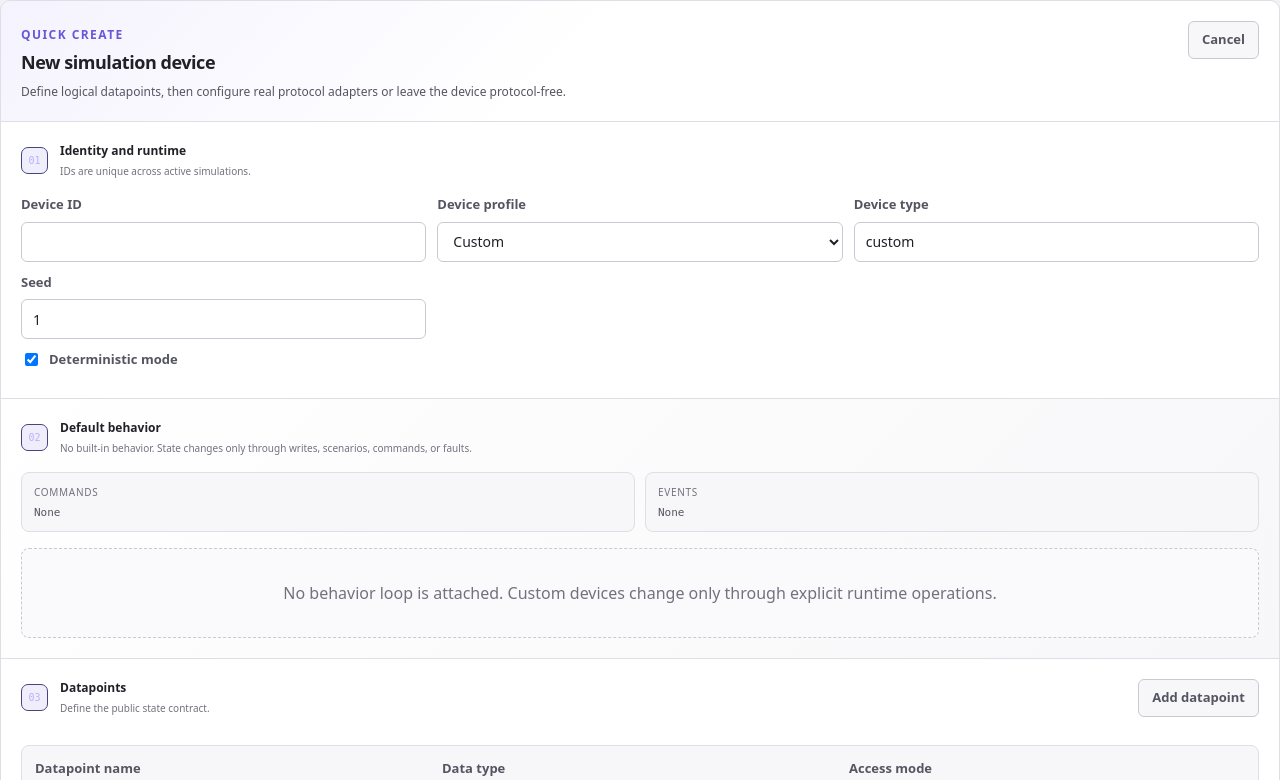
visual modeling surfaces › guides built-in device creation with explicit behavior defaults
The image size is (1280, 780).
Select "Pump" in the dropdown with id "device-profile" at x=640, y=242, box [437, 222, 843, 262]
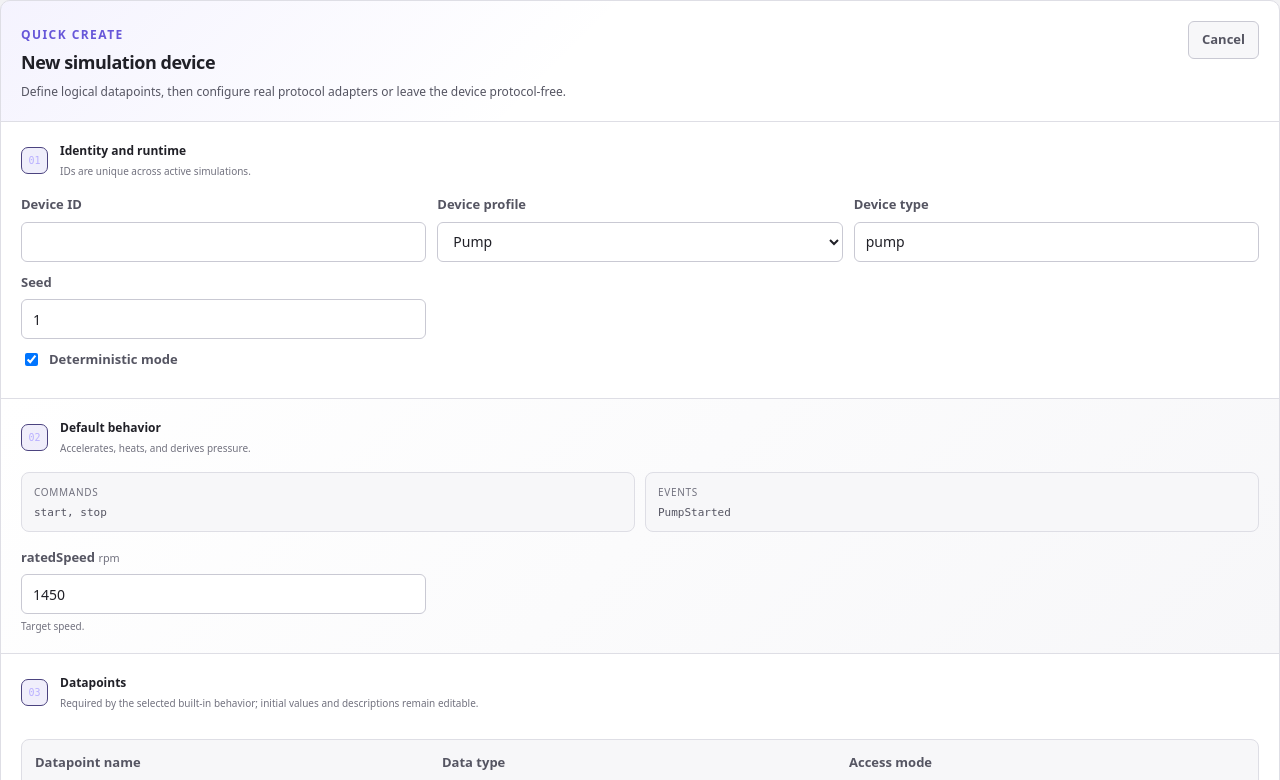
Result: the field with id "device-type" holds "pump" at [854, 222, 1259, 262]
Result: the text "Accelerates, heats, and derives pressure." is shown at [60, 440, 251, 454]
Result: the text "start, stop" is shown at [34, 506, 107, 518]
